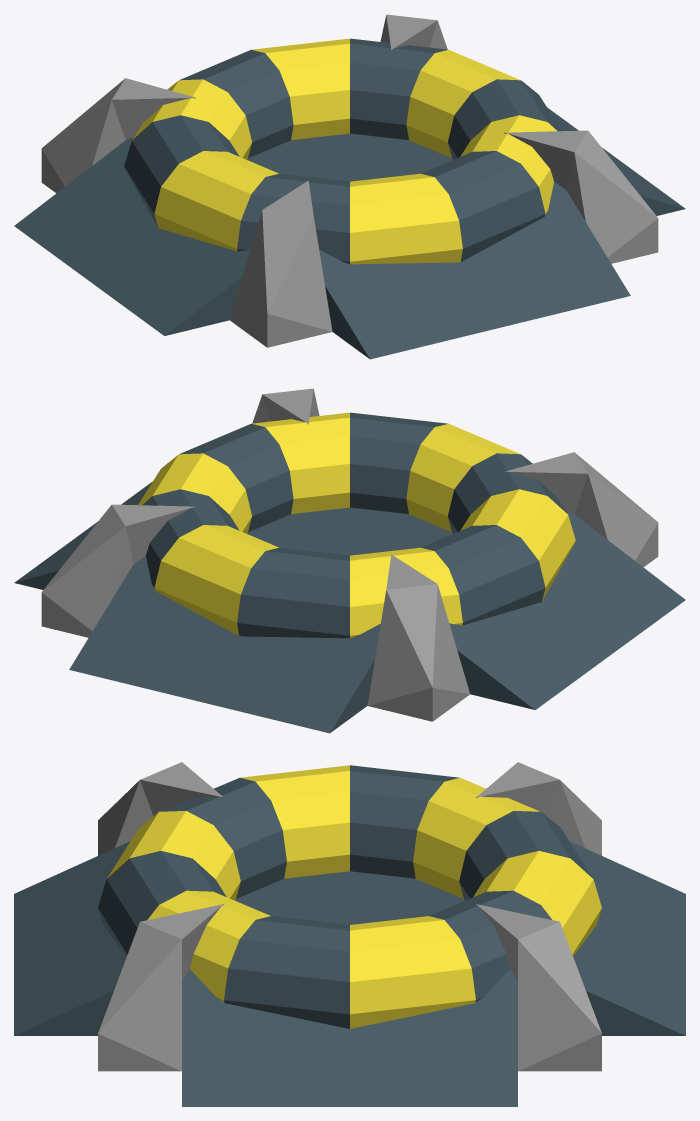
The model's file is Spawner.obj.
3 renders of one model, top to bottom at view 1: azimuth 30°, elevation 25°; view 2: azimuth 150°, elevation 25°; view 3: azimuth 270°, elevation 25°, orthographic. The views are drawn at different scales.
Parts seen in each view (by area): view 1: group940158929, group1663703151, group1566562205, group2051793732, group228865436, group764987959, group285302231, group1189999831, group1586226101; view 2: group940158929, group1072616308, group1566562205, group285302231, group1189999831, group764987959, group2051793732, group228865436, group1586226101; view 3: group940158929, group1586226101, group1663703151, group1072616308, group1189999831, group228865436, group764987959, group285302231, group2051793732.
Part boxes in pixels (left/top/right/bottom): group940158929: left=124, top=38, right=561, bottom=264; group1663703151: left=319, top=182, right=630, bottom=359; group1566562205: left=14, top=137, right=250, bottom=335; group2051793732: left=230, top=180, right=332, bottom=347; group228865436: left=504, top=130, right=658, bottom=263; group764987959: left=247, top=133, right=452, bottom=181; group285302231: left=41, top=78, right=195, bottom=193; group1189999831: left=380, top=14, right=447, bottom=50; group1586226101: left=547, top=107, right=685, bottom=215; group940158929: left=138, top=412, right=575, bottom=638; group1072616308: left=69, top=556, right=380, bottom=733; group1566562205: left=449, top=511, right=685, bottom=709; group285302231: left=367, top=554, right=469, bottom=721; group1189999831: left=41, top=504, right=195, bottom=637; group764987959: left=247, top=507, right=452, bottom=555; group2051793732: left=504, top=452, right=658, bottom=567; group228865436: left=252, top=388, right=319, bottom=424; group1586226101: left=14, top=481, right=152, bottom=589; group940158929: left=98, top=765, right=601, bottom=1028; group1586226101: left=182, top=969, right=517, bottom=1106; group1663703151: left=14, top=841, right=130, bottom=1035; group1072616308: left=569, top=841, right=685, bottom=1035; group1189999831: left=476, top=904, right=601, bottom=1071; group228865436: left=98, top=904, right=223, bottom=1071; group764987959: left=235, top=871, right=464, bottom=924; group285302231: left=476, top=762, right=601, bottom=855; group2051793732: left=98, top=762, right=223, bottom=855.
Size of the model in its own units: 0.16 by 0.03 by 0.16.
